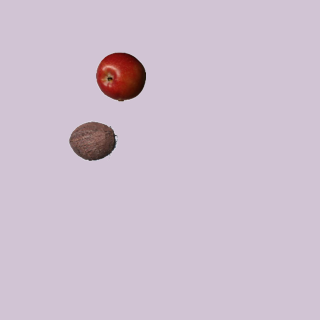Apple Braeburn: (95, 51, 145, 101)
Cocos: (67, 115, 117, 165)
